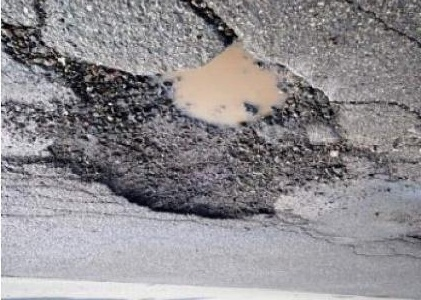pothole: (38, 36, 351, 226)
